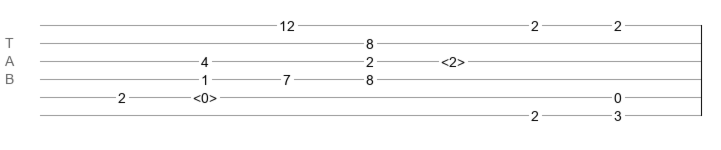0: (614, 90, 622, 100)
1: (201, 72, 209, 82)
12: (279, 18, 295, 28)
2: (118, 90, 126, 100), (366, 54, 374, 64), (531, 108, 539, 118), (531, 18, 539, 28), (614, 18, 622, 28)
3: (614, 108, 622, 118)
4: (201, 54, 209, 64)
7: (283, 72, 291, 82)
8: (366, 36, 374, 46), (366, 72, 374, 82)
harmonic: (193, 90, 217, 100), (441, 54, 465, 64)
